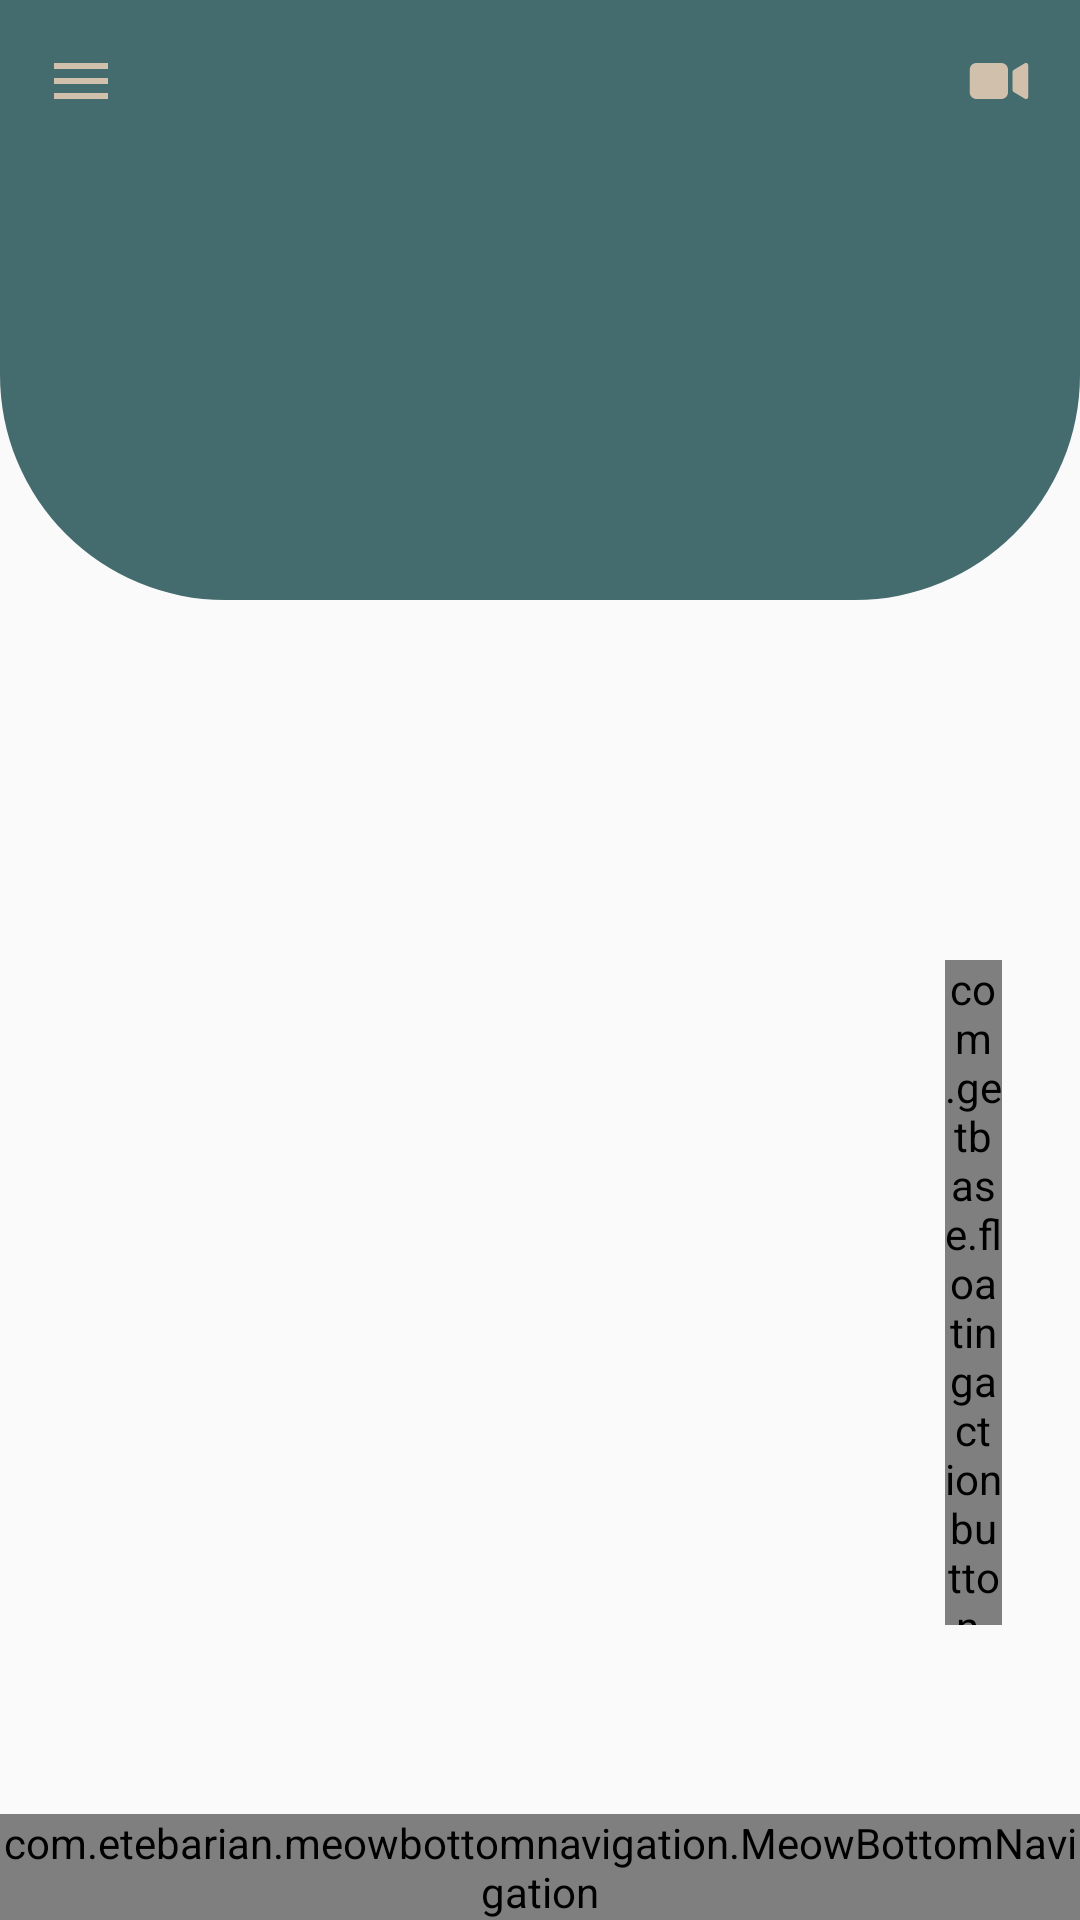

Icon click points for this 1080×1920 phone screenshot, format [x,y]:
menu: [81,81]
video: [999,81]
